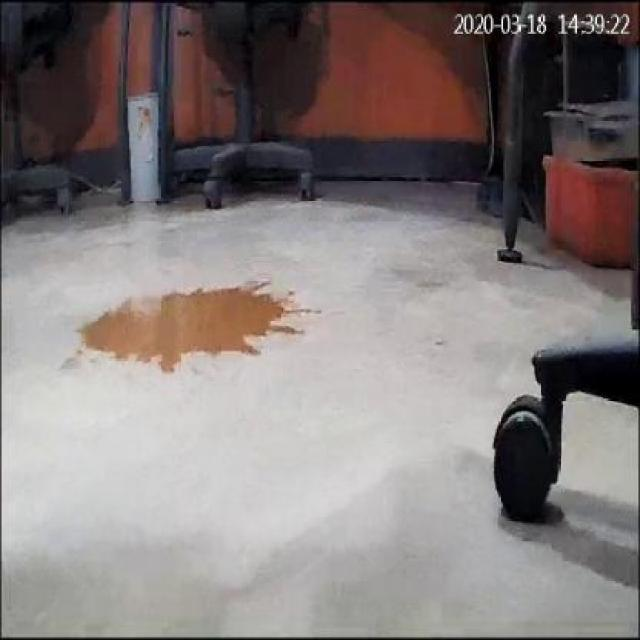spill: (73, 282, 322, 369)
